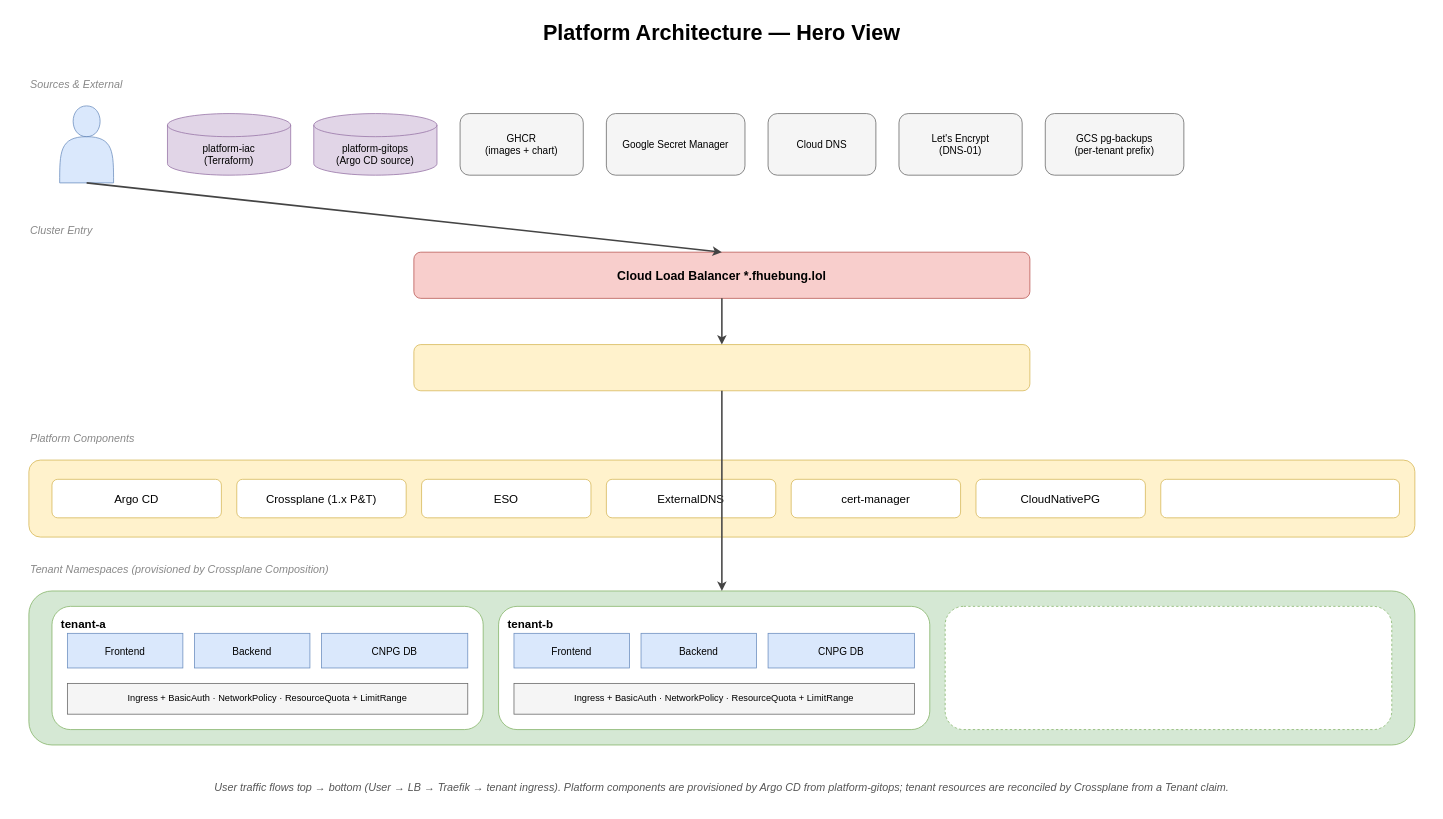
The diagram is 1443 pixels wide and 819 high, and some of its shapes have lost their labels. Each missing label, with the centre of its shape:
"Prometheus + Grafana" belongs at [1279,498].
"tenant-N …" belongs at [1168,668].
"Traefik (TLS termination, BasicAuth middleware)" belongs at [721,367].
"User" belongs at [86,144].
